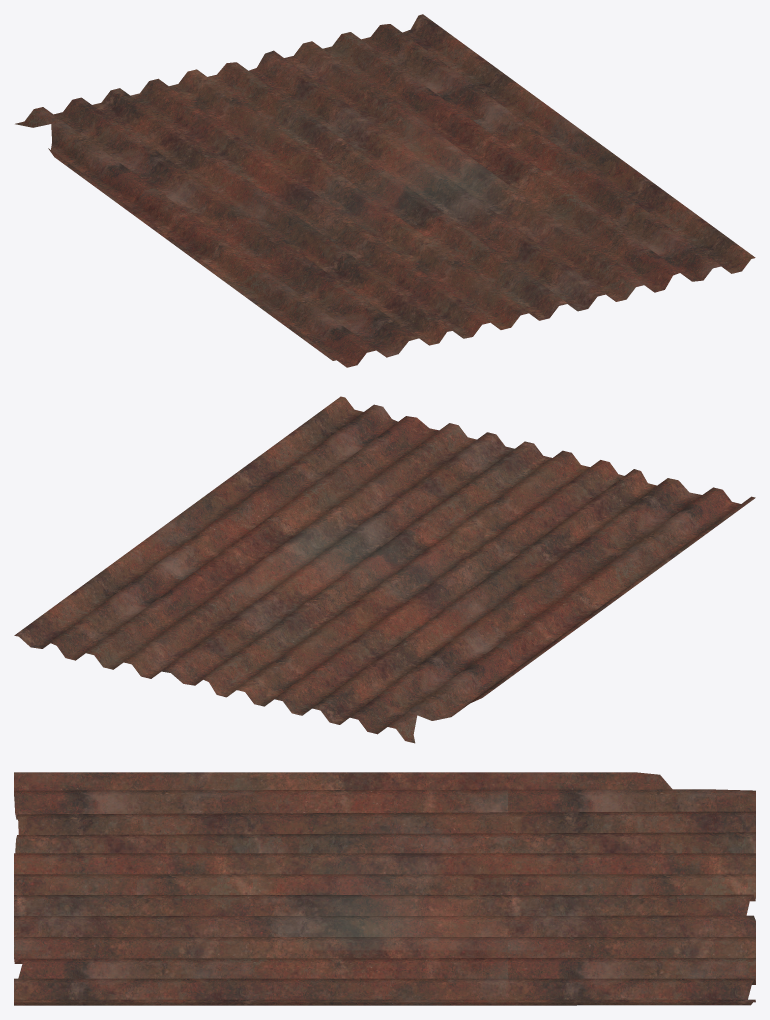
Rendered from SM_corrugated_metal_02.gltf.
The picture shows the model from 3 angles, top to bottom: view 1: azimuth 30°, elevation 25°; view 2: azimuth 150°, elevation 25°; view 3: azimuth 270°, elevation 25°; orthographic projection. The views are drawn at different scales.
Visible parts, largest first — view 1: SM_corrugated_metal_02; view 2: SM_corrugated_metal_02; view 3: SM_corrugated_metal_02.
Part boxes in pixels (left/top/right/bottom): SM_corrugated_metal_02: left=15, top=14, right=755, bottom=367; SM_corrugated_metal_02: left=14, top=396, right=755, bottom=743; SM_corrugated_metal_02: left=14, top=772, right=755, bottom=1005.
Size of the model in its own units: 2.2 by 0.05 by 3.
1 material, 1 textured.
